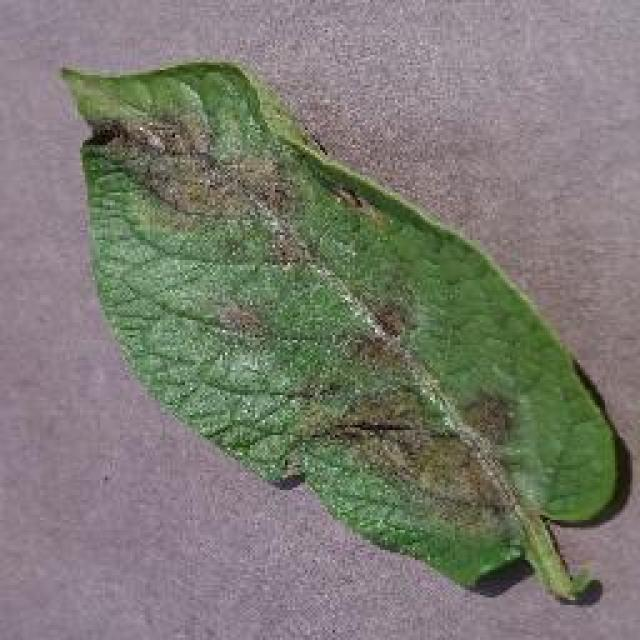Potato___Late_blight: (52, 33, 628, 625)
